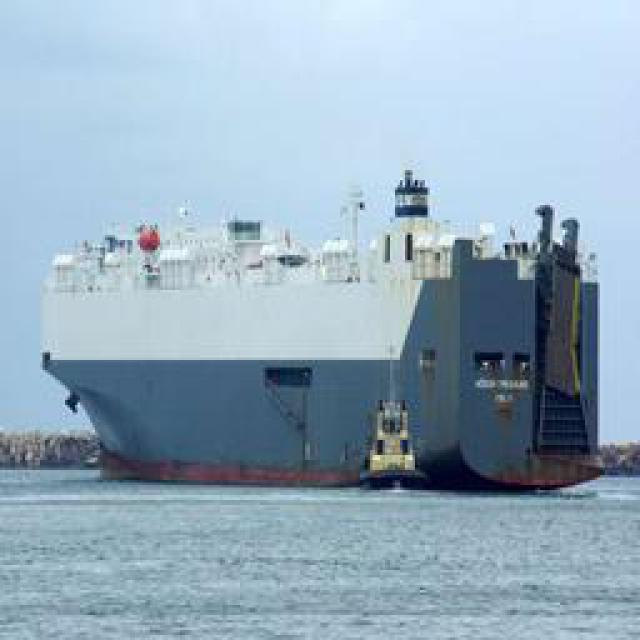Ship: (31, 175, 606, 488)
